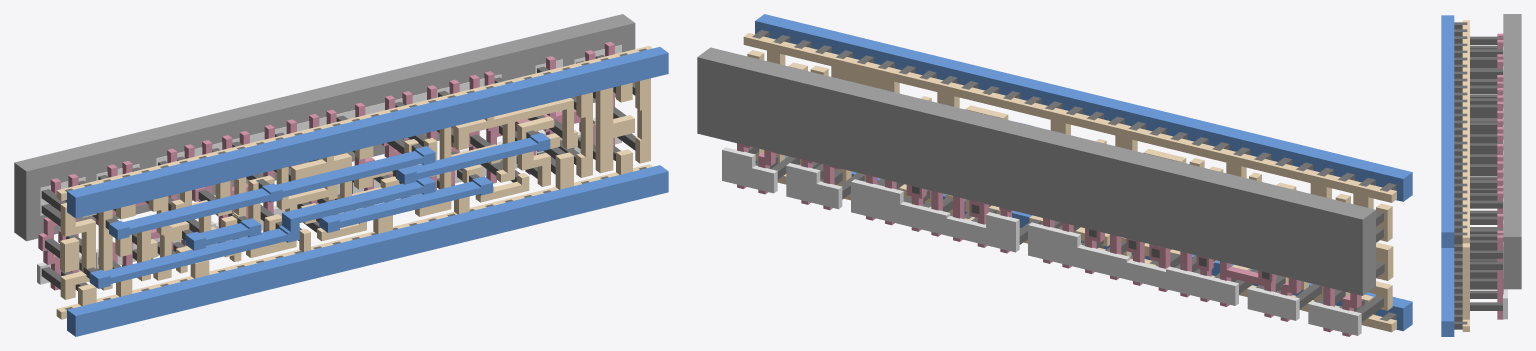
File: sky130_fd_sc_hd__sdfbbn_1.gds.gltf
3 views of the same model, side by side, from view 1: azimuth 30°, elevation 25°; view 2: azimuth 150°, elevation 25°; view 3: azimuth 270°, elevation 25° (orthographic). The views are drawn at different scales.
Visible parts, largest first — view 1: sky130_fd_sc_hd__sdfbbn_1_met1, sky130_fd_sc_hd__sdfbbn_1_li1, sky130_fd_sc_hd__sdfbbn_1_nwell, sky130_fd_sc_hd__sdfbbn_1_poly, sky130_fd_sc_hd__sdfbbn_1_licon, sky130_fd_sc_hd__sdfbbn_1_diff, sky130_fd_sc_hd__sdfbbn_1_mcon; view 2: sky130_fd_sc_hd__sdfbbn_1_nwell, sky130_fd_sc_hd__sdfbbn_1_diff, sky130_fd_sc_hd__sdfbbn_1_li1, sky130_fd_sc_hd__sdfbbn_1_met1, sky130_fd_sc_hd__sdfbbn_1_poly, sky130_fd_sc_hd__sdfbbn_1_licon, sky130_fd_sc_hd__sdfbbn_1_mcon; view 3: sky130_fd_sc_hd__sdfbbn_1_licon, sky130_fd_sc_hd__sdfbbn_1_nwell, sky130_fd_sc_hd__sdfbbn_1_met1, sky130_fd_sc_hd__sdfbbn_1_mcon, sky130_fd_sc_hd__sdfbbn_1_li1, sky130_fd_sc_hd__sdfbbn_1_poly, sky130_fd_sc_hd__sdfbbn_1_diff.
Part boxes in pixels (x1,y1,x2,y2): sky130_fd_sc_hd__sdfbbn_1_met1: (67,47,668,336); sky130_fd_sc_hd__sdfbbn_1_li1: (56,46,652,319); sky130_fd_sc_hd__sdfbbn_1_nwell: (14,14,635,241); sky130_fd_sc_hd__sdfbbn_1_poly: (38,42,614,290); sky130_fd_sc_hd__sdfbbn_1_licon: (41,55,635,290); sky130_fd_sc_hd__sdfbbn_1_diff: (37,44,621,284); sky130_fd_sc_hd__sdfbbn_1_mcon: (64,48,646,310); sky130_fd_sc_hd__sdfbbn_1_nwell: (697,47,1375,295); sky130_fd_sc_hd__sdfbbn_1_diff: (722,147,1361,335); sky130_fd_sc_hd__sdfbbn_1_li1: (743,33,1396,332); sky130_fd_sc_hd__sdfbbn_1_met1: (755,14,1412,331); sky130_fd_sc_hd__sdfbbn_1_poly: (737,143,1361,336); sky130_fd_sc_hd__sdfbbn_1_licon: (748,77,1384,321); sky130_fd_sc_hd__sdfbbn_1_mcon: (752,30,1396,320); sky130_fd_sc_hd__sdfbbn_1_licon: (1470,36,1502,310); sky130_fd_sc_hd__sdfbbn_1_nwell: (1503,14,1521,289); sky130_fd_sc_hd__sdfbbn_1_met1: (1441,15,1454,336); sky130_fd_sc_hd__sdfbbn_1_mcon: (1454,22,1467,329); sky130_fd_sc_hd__sdfbbn_1_li1: (1462,20,1469,331); sky130_fd_sc_hd__sdfbbn_1_poly: (1497,33,1503,319); sky130_fd_sc_hd__sdfbbn_1_diff: (1503,46,1507,319).
Size of the model in its own units: 14.64 by 3.2 by 2.24.
